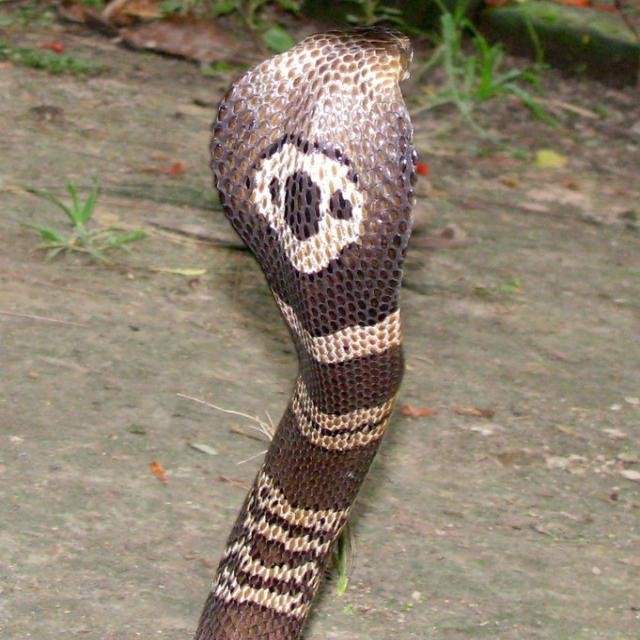Snake: (190, 24, 420, 638)
